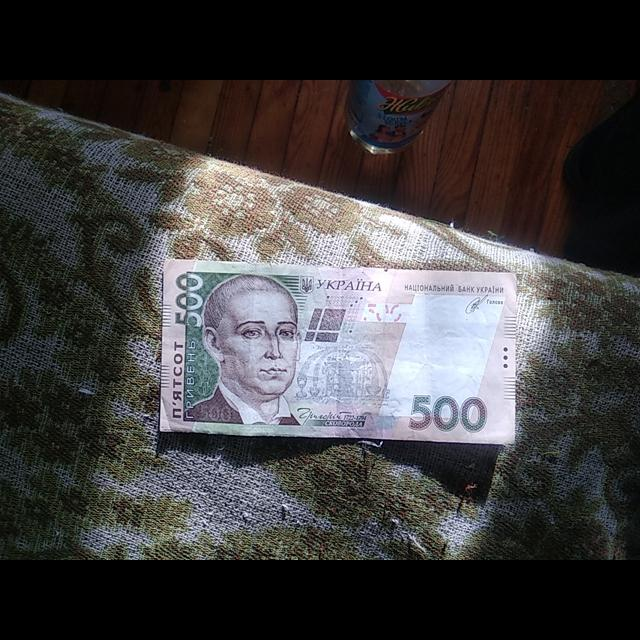500uah: (160, 258, 518, 444)
